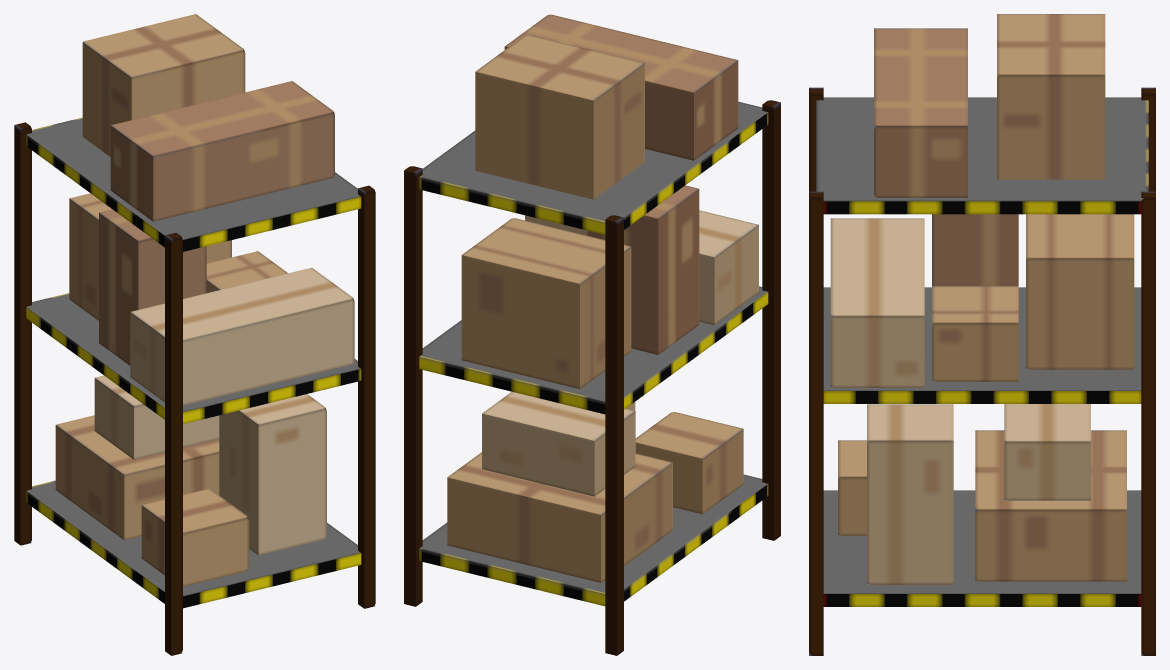
Rendered from shelf3.fbx.
3 renders of one model, left to right at view 1: azimuth 30°, elevation 25°; view 2: azimuth 150°, elevation 25°; view 3: azimuth 270°, elevation 25°, orthographic. The views are drawn at different scales.
Visible parts, largest first — view 1: cube_7, cube_8, cube_13, cube_10, cube_6, cube_9, cube_4, cube_14, cube_5, cube_2, cube_3, cube_1 (+4 smaller); view 2: cube_10, cube_11, cube_9, cube_6, cube_7, cube_16, cube_14, cube_4, cube_5, cube_1, cube, cube_2 (+2 smaller); view 3: cube_6, cube_10, cube_9, cube_11, cube_8, cube_7, cube_13, cube_4, cube_5, cube_16, cube_15, cube_3 (+5 smaller).
Part boxes in pixels (left/top/right/bottom): cube_7: left=110, top=81, right=334, bottom=221; cube_8: left=130, top=267, right=354, bottom=405; cube_13: left=219, top=394, right=326, bottom=555; cube_10: left=82, top=14, right=245, bottom=156; cube_6: left=26, top=117, right=361, bottom=251; cube_9: left=55, top=415, right=219, bottom=540; cube_4: left=26, top=480, right=361, bottom=608; cube_14: left=99, top=209, right=206, bottom=365; cube_5: left=26, top=293, right=361, bottom=423; cube_2: left=165, top=232, right=182, bottom=655; cube_3: left=358, top=185, right=375, bottom=608; cube_1: left=14, top=122, right=31, bottom=545; cube_10: left=475, top=35, right=644, bottom=199; cube_11: left=461, top=218, right=631, bottom=388; cube_9: left=447, top=452, right=672, bottom=582; cube_6: left=419, top=101, right=768, bottom=234; cube_7: left=504, top=14, right=738, bottom=160; cube_16: left=482, top=392, right=635, bottom=496; cube_14: left=587, top=185, right=699, bottom=354; cube_4: left=419, top=474, right=768, bottom=606; cube_5: left=419, top=286, right=768, bottom=414; cube_1: left=605, top=215, right=623, bottom=655; cube: left=404, top=166, right=422, bottom=606; cube_2: left=762, top=100, right=780, bottom=540; cube_6: left=816, top=97, right=1148, bottom=214; cube_10: left=997, top=14, right=1105, bottom=179; cube_9: left=975, top=430, right=1126, bottom=581; cube_11: left=1026, top=214, right=1134, bottom=369; cube_8: left=830, top=218, right=924, bottom=387; cube_7: left=874, top=28, right=967, bottom=197; cube_13: left=867, top=404, right=953, bottom=584; cube_4: left=823, top=490, right=1141, bottom=606; cube_5: left=823, top=287, right=1141, bottom=403; cube_16: left=1004, top=404, right=1090, bottom=500; cube_15: left=932, top=286, right=1018, bottom=381; cube_3: left=809, top=191, right=823, bottom=655.
Bounding box in the file's own units: 225 × 531 × 300.
1 material, 1 textured.
